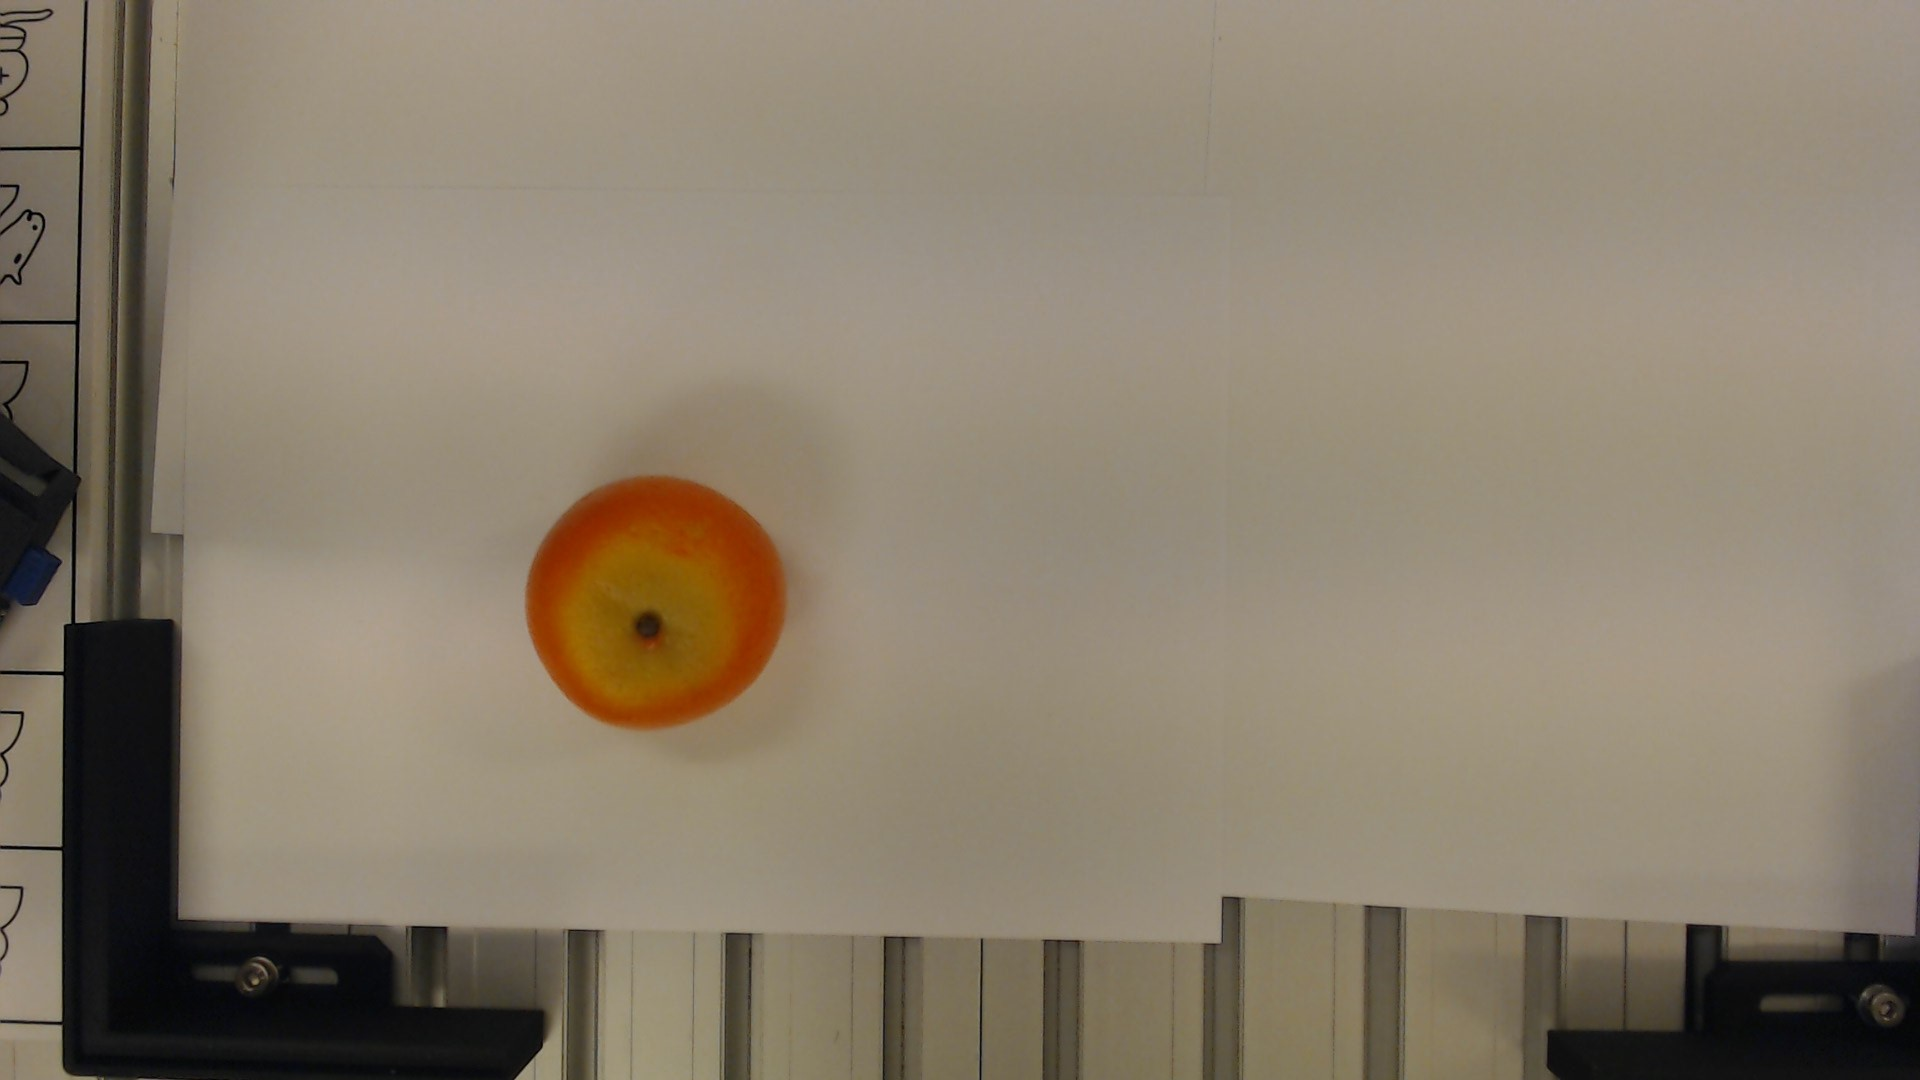Mandarin: (514, 473, 793, 741)
